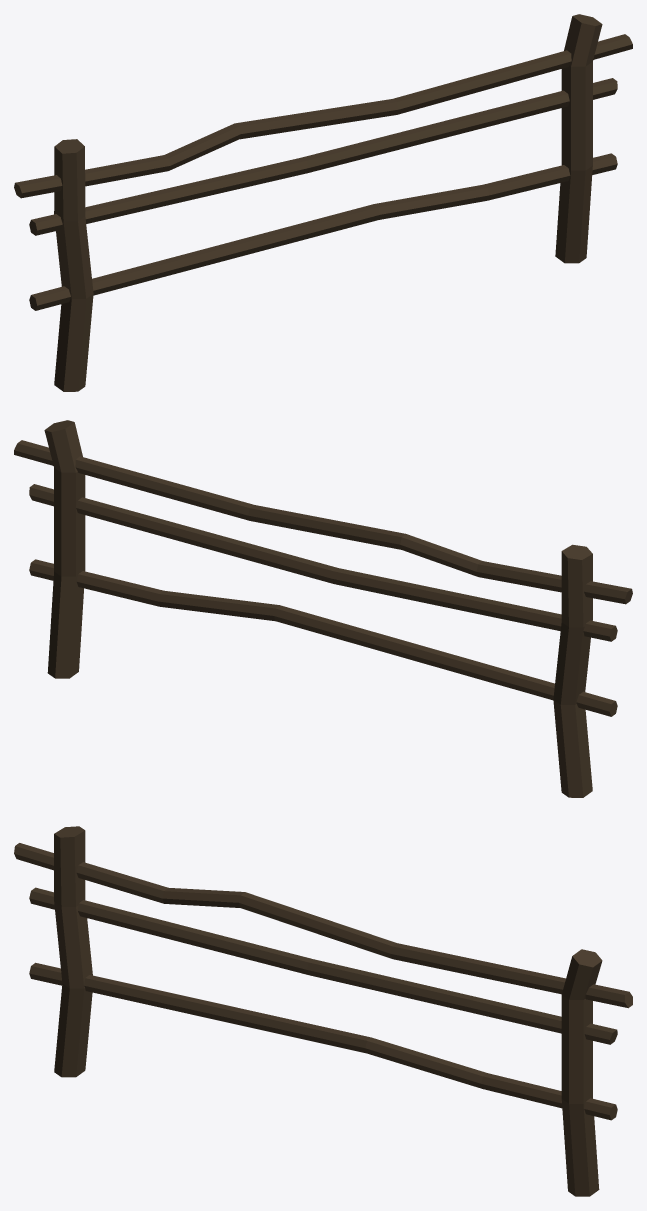
The model's file is SM_Prop_Fence_04.glb.
The picture shows the model from 3 angles, top to bottom: view 1: azimuth 30°, elevation 25°; view 2: azimuth 150°, elevation 25°; view 3: azimuth 330°, elevation 25°; orthographic projection.
Visible parts, largest first — view 1: SM_Prop_Fence_04; view 2: SM_Prop_Fence_04; view 3: SM_Prop_Fence_04.
Part boxes in pixels (bbox=[...]): SM_Prop_Fence_04: bbox=[14, 14, 632, 391]; SM_Prop_Fence_04: bbox=[14, 420, 632, 797]; SM_Prop_Fence_04: bbox=[14, 826, 632, 1196].
Size of the model in its own units: 0.0302 by 0.0114 by 0.00194.
